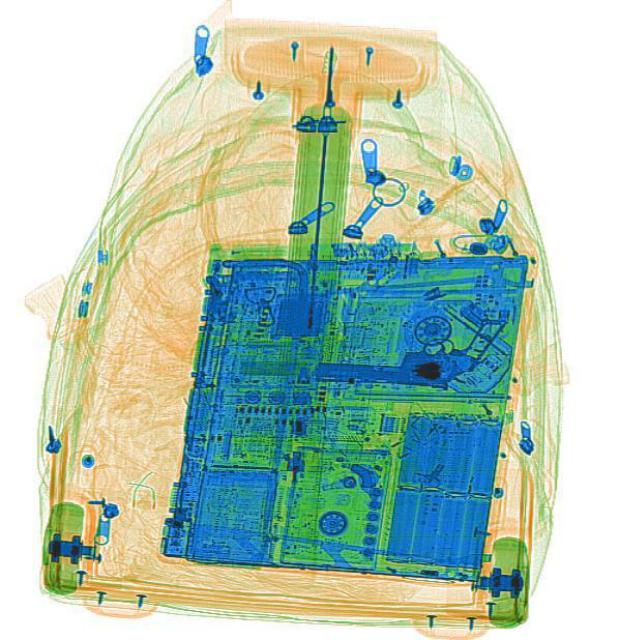Gun: (312, 320, 507, 388)
